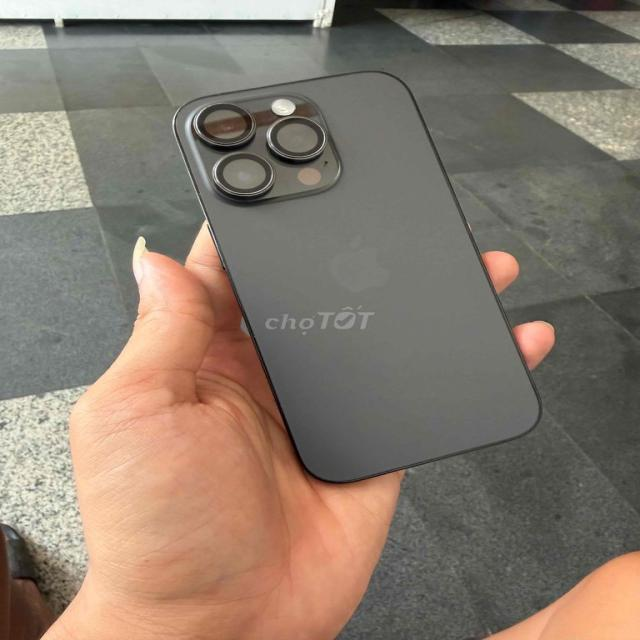gen_14: (171, 72, 548, 493)
